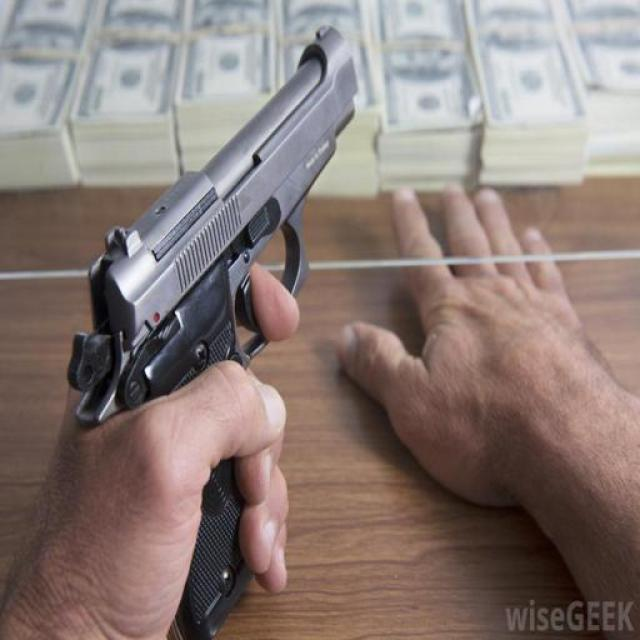pistol: (66, 24, 362, 639)
